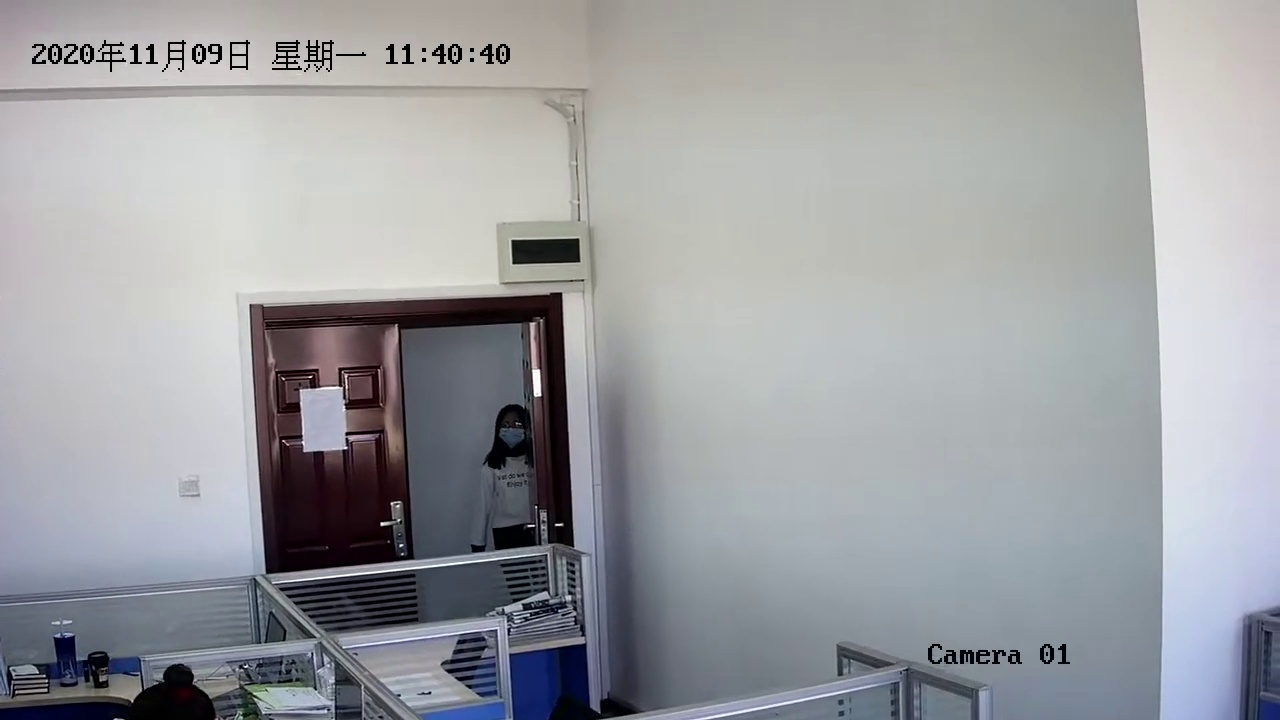mask: (487, 395, 534, 457)
